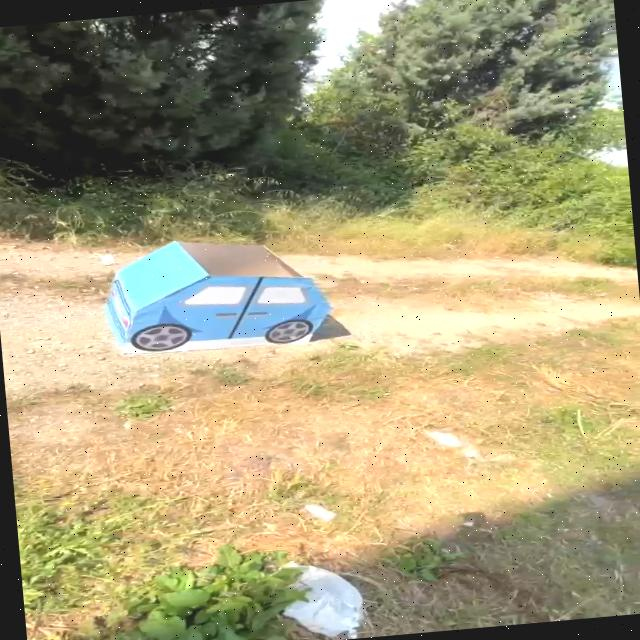blue_car: (68, 216, 349, 383)
